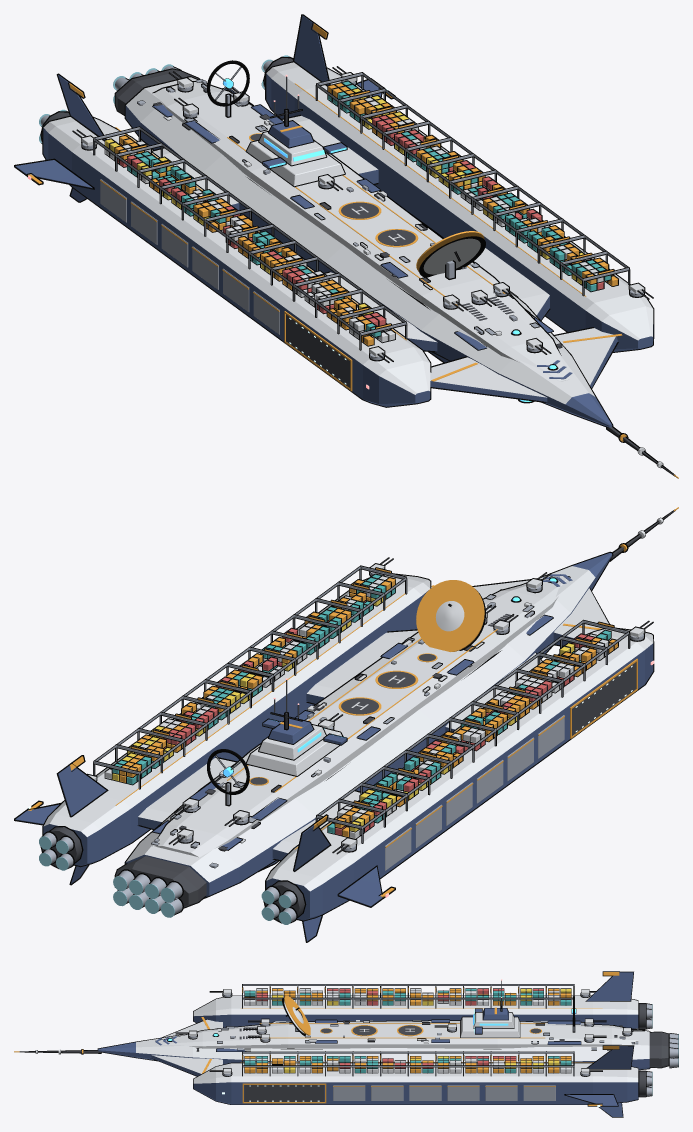
The model's file is Capital_Explorer.fbx.
3 renders of one model, top to bottom at view 1: azimuth 30°, elevation 25°; view 2: azimuth 150°, elevation 25°; view 3: azimuth 270°, elevation 25°, orthographic. The views are drawn at different scales.
Parts seen in each view (by area): view 1: Hull_CenterDeck, Hull_Cargo_R, Hull_Cargo_L, Hull_Center, Frame_R, Frame_L, Cargo_RA, Cargo_LB, Cargo_LA, Cargo_RB, Hull_Delta_L, Hull_Delta_R (+13 smaller); view 2: Hull_CenterDeck, Hull_Cargo_R, Hull_Center, Hull_Cargo_L, Frame_R, Frame_L, Cargo_LB, Cargo_RA, Cargo_RB, Cargo_LA, Dish_Rim, Hull_Bridge_R0 (+19 smaller); view 3: Hull_Cargo_R, Hull_CenterDeck, Hull_Cargo_L, Hull_Center, Frame_R, Cargo_LB, Cargo_RA, Cargo_RB, Cargo_LA, Frame_L, Dock_R_Mouth, Fin_Dorsal_L (+18 smaller).
Part boxes in pixels (bbox=[...]): Hull_CenterDeck: bbox=[152, 81, 569, 381]; Hull_Cargo_R: bbox=[265, 61, 654, 352]; Hull_Cargo_L: bbox=[42, 116, 431, 407]; Hull_Center: bbox=[124, 76, 613, 427]; Frame_R: bbox=[315, 72, 630, 296]; Frame_L: bbox=[93, 126, 407, 350]; Cargo_RA: bbox=[448, 170, 618, 292]; Cargo_LB: bbox=[104, 135, 275, 248]; Cargo_LA: bbox=[238, 236, 395, 346]; Cargo_RB: bbox=[327, 80, 485, 187]; Hull_Delta_L: bbox=[430, 356, 547, 403]; Hull_Delta_R: bbox=[553, 327, 618, 388]; Hull_CenterDeck: bbox=[152, 576, 570, 857]; Hull_Cargo_R: bbox=[42, 573, 431, 867]; Hull_Center: bbox=[124, 551, 613, 898]; Hull_Cargo_L: bbox=[265, 628, 654, 921]; Frame_R: bbox=[93, 565, 407, 789]; Frame_L: bbox=[315, 619, 630, 843]; Cargo_LB: bbox=[327, 714, 485, 839]; Cargo_RA: bbox=[238, 573, 395, 696]; Cargo_RB: bbox=[104, 669, 252, 785]; Cargo_LA: bbox=[470, 629, 618, 742]; Dish_Rim: bbox=[416, 580, 484, 651]; Hull_Bridge_R0: bbox=[306, 629, 417, 704]; Hull_Cargo_R: bbox=[193, 1062, 638, 1104]; Hull_CenterDeck: bbox=[155, 1020, 638, 1049]; Hull_Cargo_L: bbox=[193, 995, 638, 1028]; Hull_Center: bbox=[97, 1027, 650, 1070]; Frame_R: bbox=[242, 1051, 574, 1076]; Cargo_LB: bbox=[394, 988, 571, 1005]; Cargo_RA: bbox=[244, 1056, 421, 1073]; Cargo_RB: bbox=[410, 1056, 571, 1073]; Cargo_LA: bbox=[244, 988, 405, 1005]; Frame_L: bbox=[242, 984, 574, 1008]; Dock_R_Mouth: bbox=[244, 1085, 324, 1101]; Fin_Dorsal_L: bbox=[585, 971, 633, 1001].
Size of the model in its own units: 135 by 59.13 by 349.
